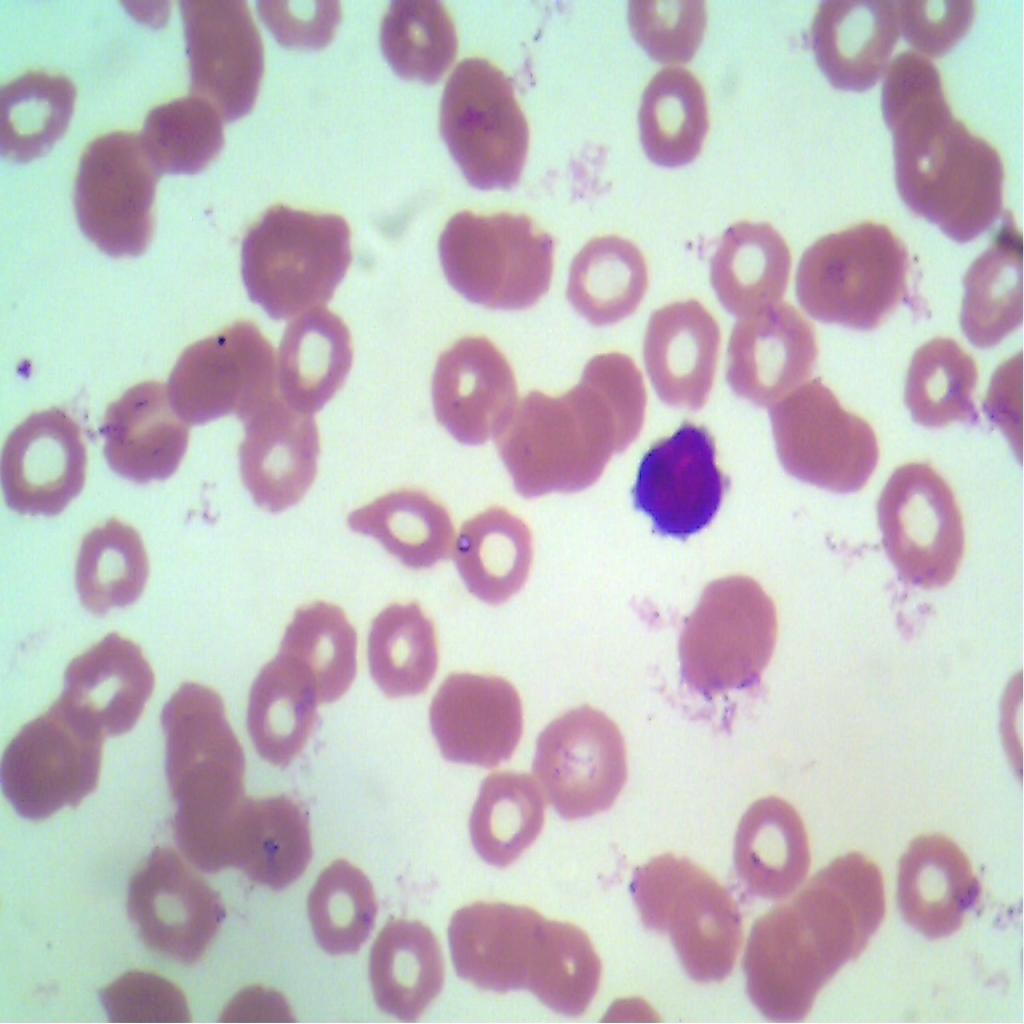Eritrosit: (669, 555, 793, 705), (788, 200, 913, 334), (426, 51, 532, 194), (884, 454, 983, 605), (0, 705, 118, 828), (888, 826, 989, 959), (418, 657, 526, 781), (242, 194, 352, 315), (58, 614, 156, 744), (538, 692, 634, 824), (622, 61, 728, 178), (68, 131, 161, 264), (0, 407, 101, 528), (124, 838, 226, 957), (98, 372, 206, 484), (776, 378, 878, 495), (179, 318, 279, 434), (353, 897, 450, 1014), (640, 298, 730, 424), (182, 0, 266, 131), (271, 588, 362, 704), (59, 509, 151, 621), (352, 481, 458, 578), (448, 508, 542, 614), (274, 297, 359, 414), (726, 291, 814, 402), (513, 911, 604, 1018), (459, 765, 551, 870), (431, 322, 515, 437), (131, 86, 233, 180), (159, 688, 242, 802), (771, 874, 854, 986), (482, 214, 568, 321), (224, 787, 314, 888), (244, 395, 322, 511), (806, 0, 898, 98), (893, 328, 984, 426), (173, 767, 261, 867), (566, 230, 652, 331), (704, 204, 791, 302), (618, 834, 702, 935), (664, 888, 746, 991), (569, 337, 644, 448), (444, 891, 526, 992), (951, 237, 1023, 352), (358, 592, 438, 695), (886, 104, 971, 200), (935, 155, 1016, 254), (378, 0, 466, 91), (0, 68, 86, 161), (493, 387, 569, 491), (249, 660, 324, 764), (806, 838, 882, 939), (739, 801, 815, 901), (754, 918, 824, 1023), (876, 48, 948, 142), (438, 204, 510, 295), (549, 382, 611, 485), (314, 854, 376, 948)
Limfosit: (624, 420, 736, 552)
Platelet: (0, 349, 42, 397)
